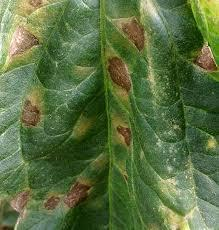leaf_spot: (13, 10, 219, 211)
